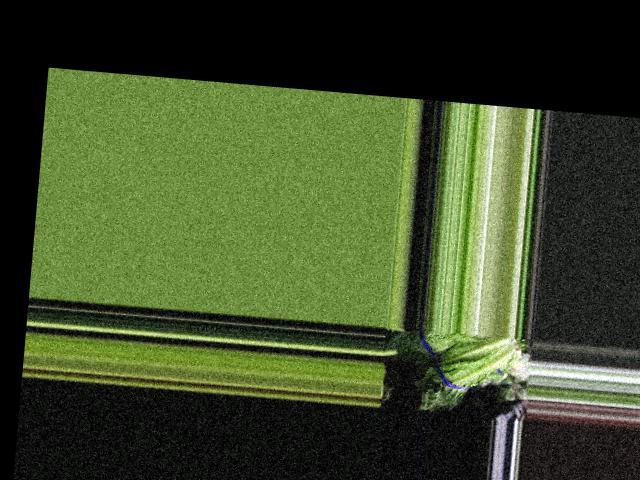lettuce: (413, 329, 511, 411)
